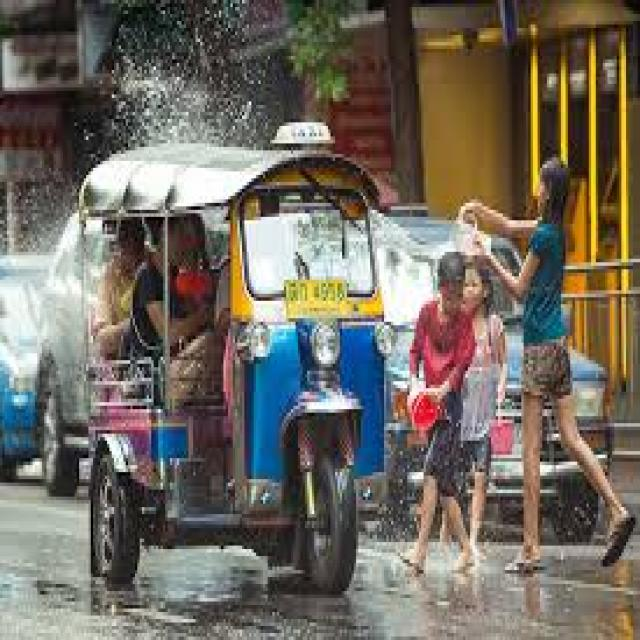tuktuk: (58, 72, 426, 601)
